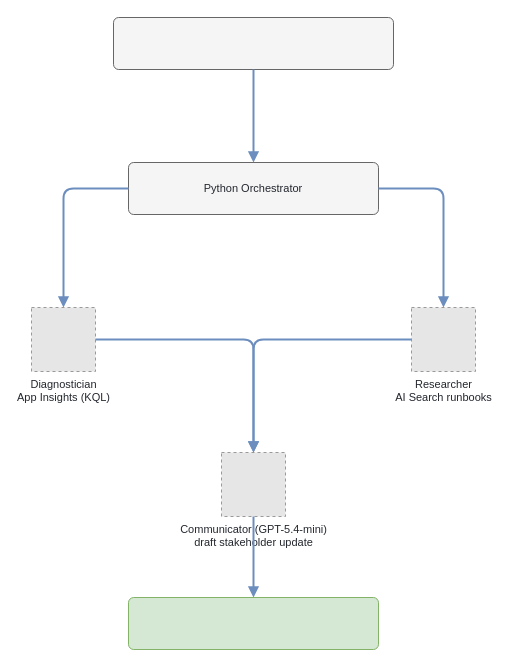
The diagram is 509 pixels wide and 667 high, and some of its shapes have lost their labels. Grey dashed boxes stand in for pictures. Each missing label, with the box of its shape:
Incident trigger (alert / manual): (112, 16, 394, 70)
Slack / Teams / Email: (128, 596, 378, 650)
